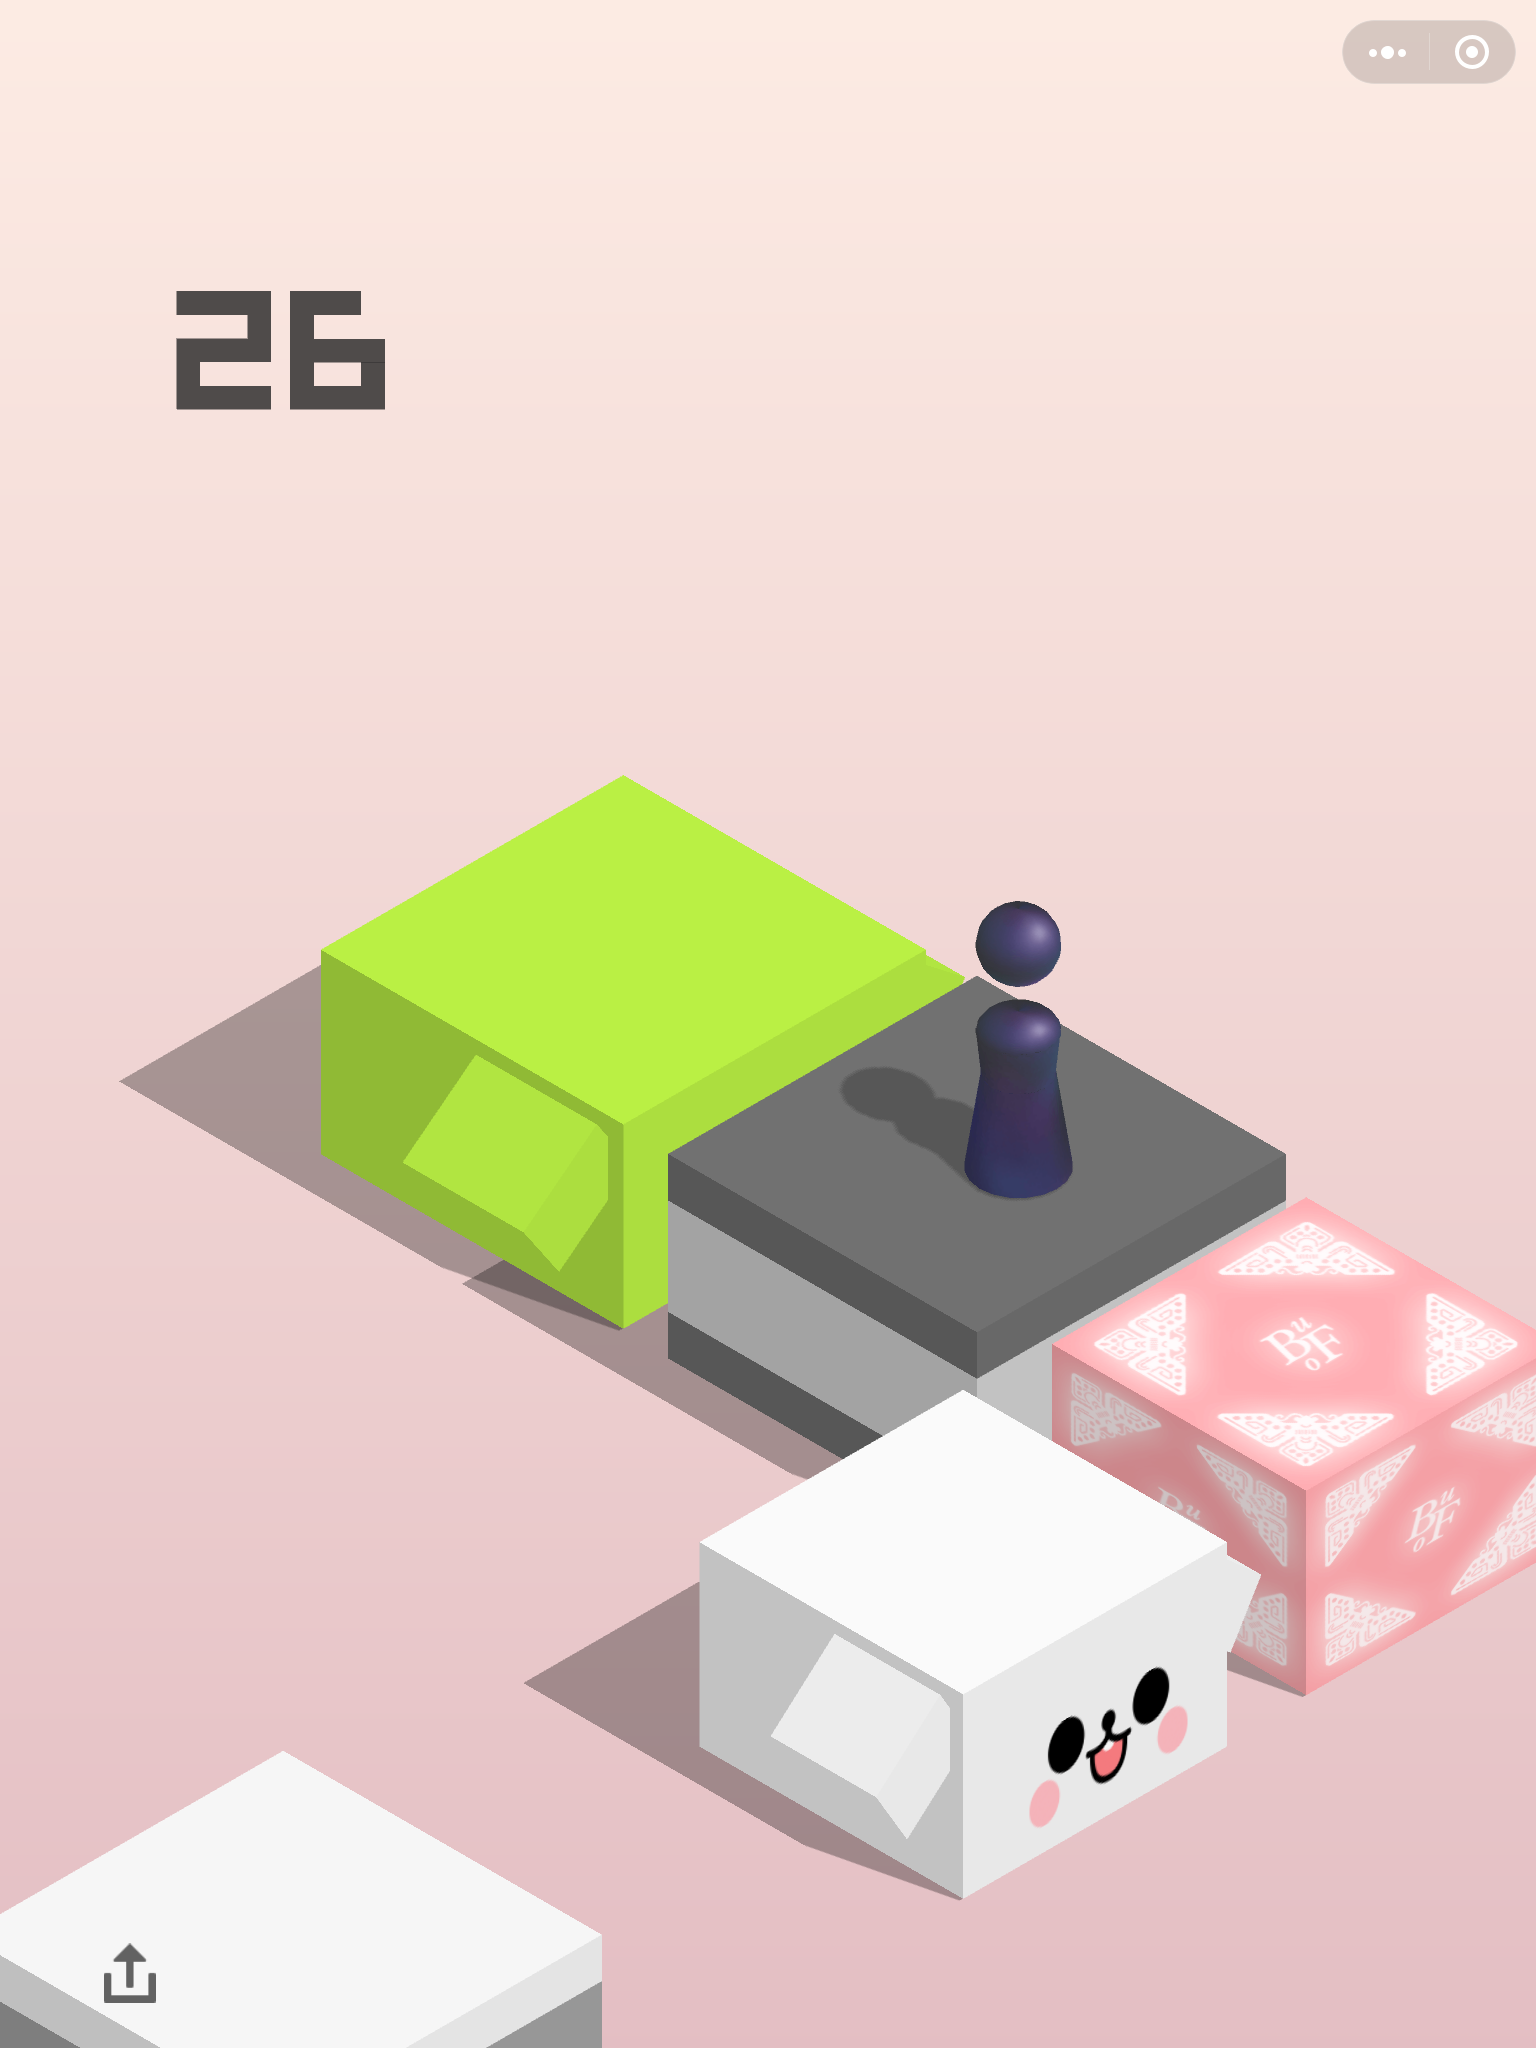f: (316, 764, 958, 1343), (641, 963, 1304, 1511), (692, 1387, 1265, 1904), (1046, 1184, 1536, 1705), (2, 1746, 607, 2046)
r: (949, 884, 1089, 1211)
